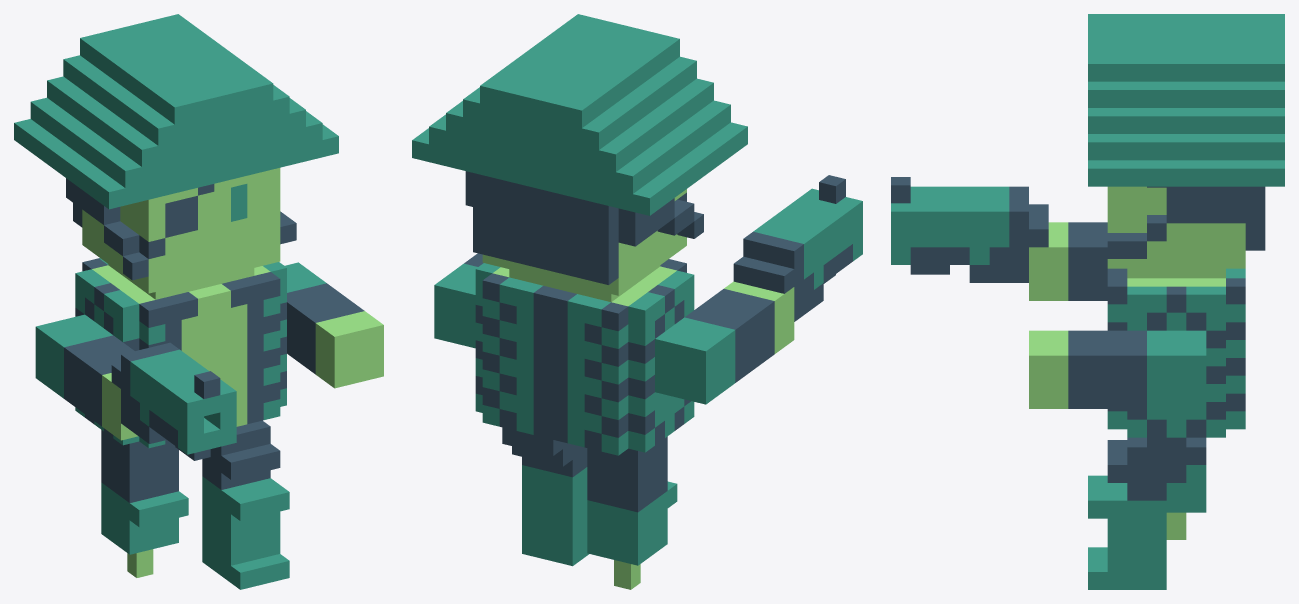
Rendered from PirataW1.obj.
3 views of the same model, side by side, from view 1: azimuth 30°, elevation 25°; view 2: azimuth 150°, elevation 25°; view 3: azimuth 270°, elevation 25° (orthographic). The views are drawn at different scales.
Bounding box in the file's own units: 1.6 × 2.9 × 2.
Materials: 1 (1 with a texture image).
